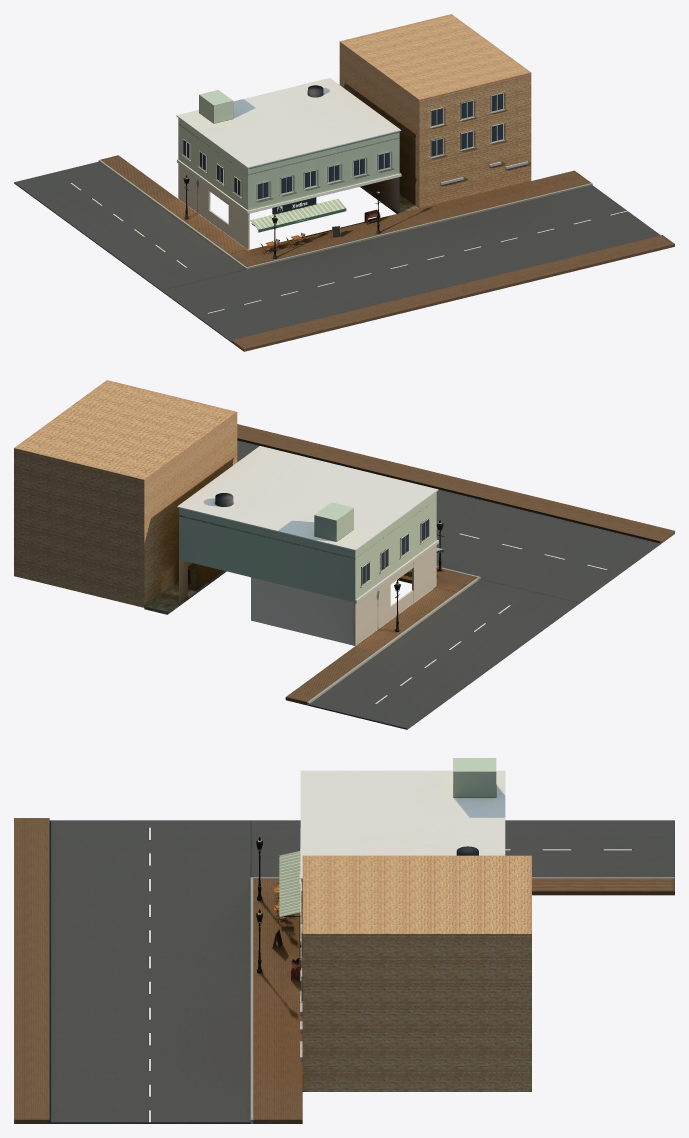
Rendered from world-st.glb.
3 renders of one model, top to bottom at view 1: azimuth 30°, elevation 25°; view 2: azimuth 150°, elevation 25°; view 3: azimuth 270°, elevation 25°, orthographic. The views are drawn at different scales.
Visible parts, largest first — view 1: BK_st_ground, BK_st_facade, BK_st_props; view 2: BK_st_facade, BK_st_ground; view 3: BK_st_ground, BK_st_facade, BK_st_props.
Boxes of the visible parts, box(x1,y1,x2,y2) form: BK_st_ground: box(14, 155, 674, 351); BK_st_facade: box(176, 14, 531, 249); BK_st_props: box(183, 161, 528, 258); BK_st_facade: box(14, 380, 443, 645); BK_st_ground: box(144, 424, 674, 729); BK_st_ground: box(14, 818, 674, 1123); BK_st_facade: box(279, 758, 531, 1091); BK_st_props: box(256, 837, 302, 1061).
Bounding box in the file's own units: 40 × 9.86 × 37.
6 materials, 4 textured.
